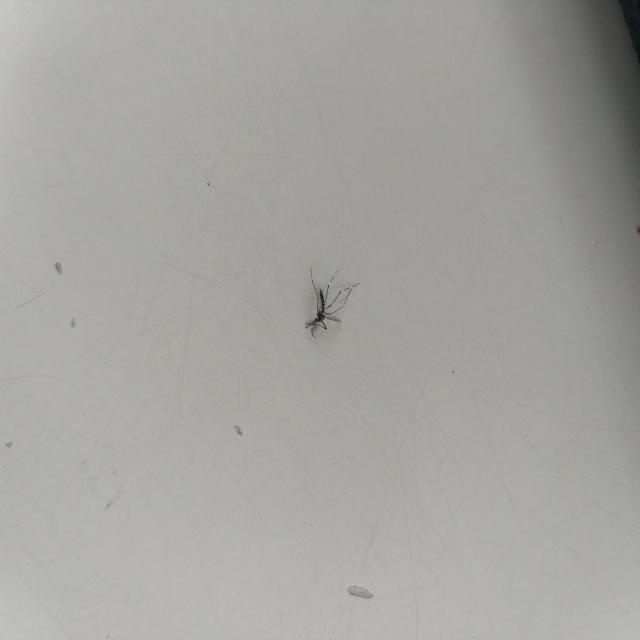albopictus: (296, 258, 359, 339)
